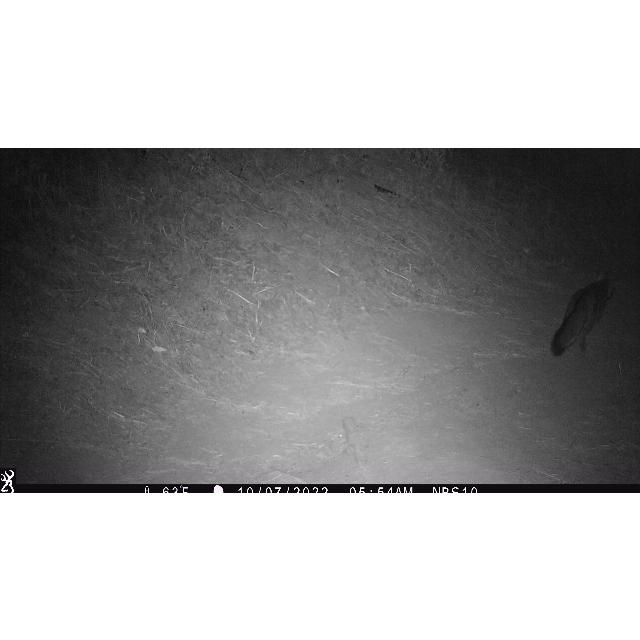animals: (550, 268, 618, 358)
